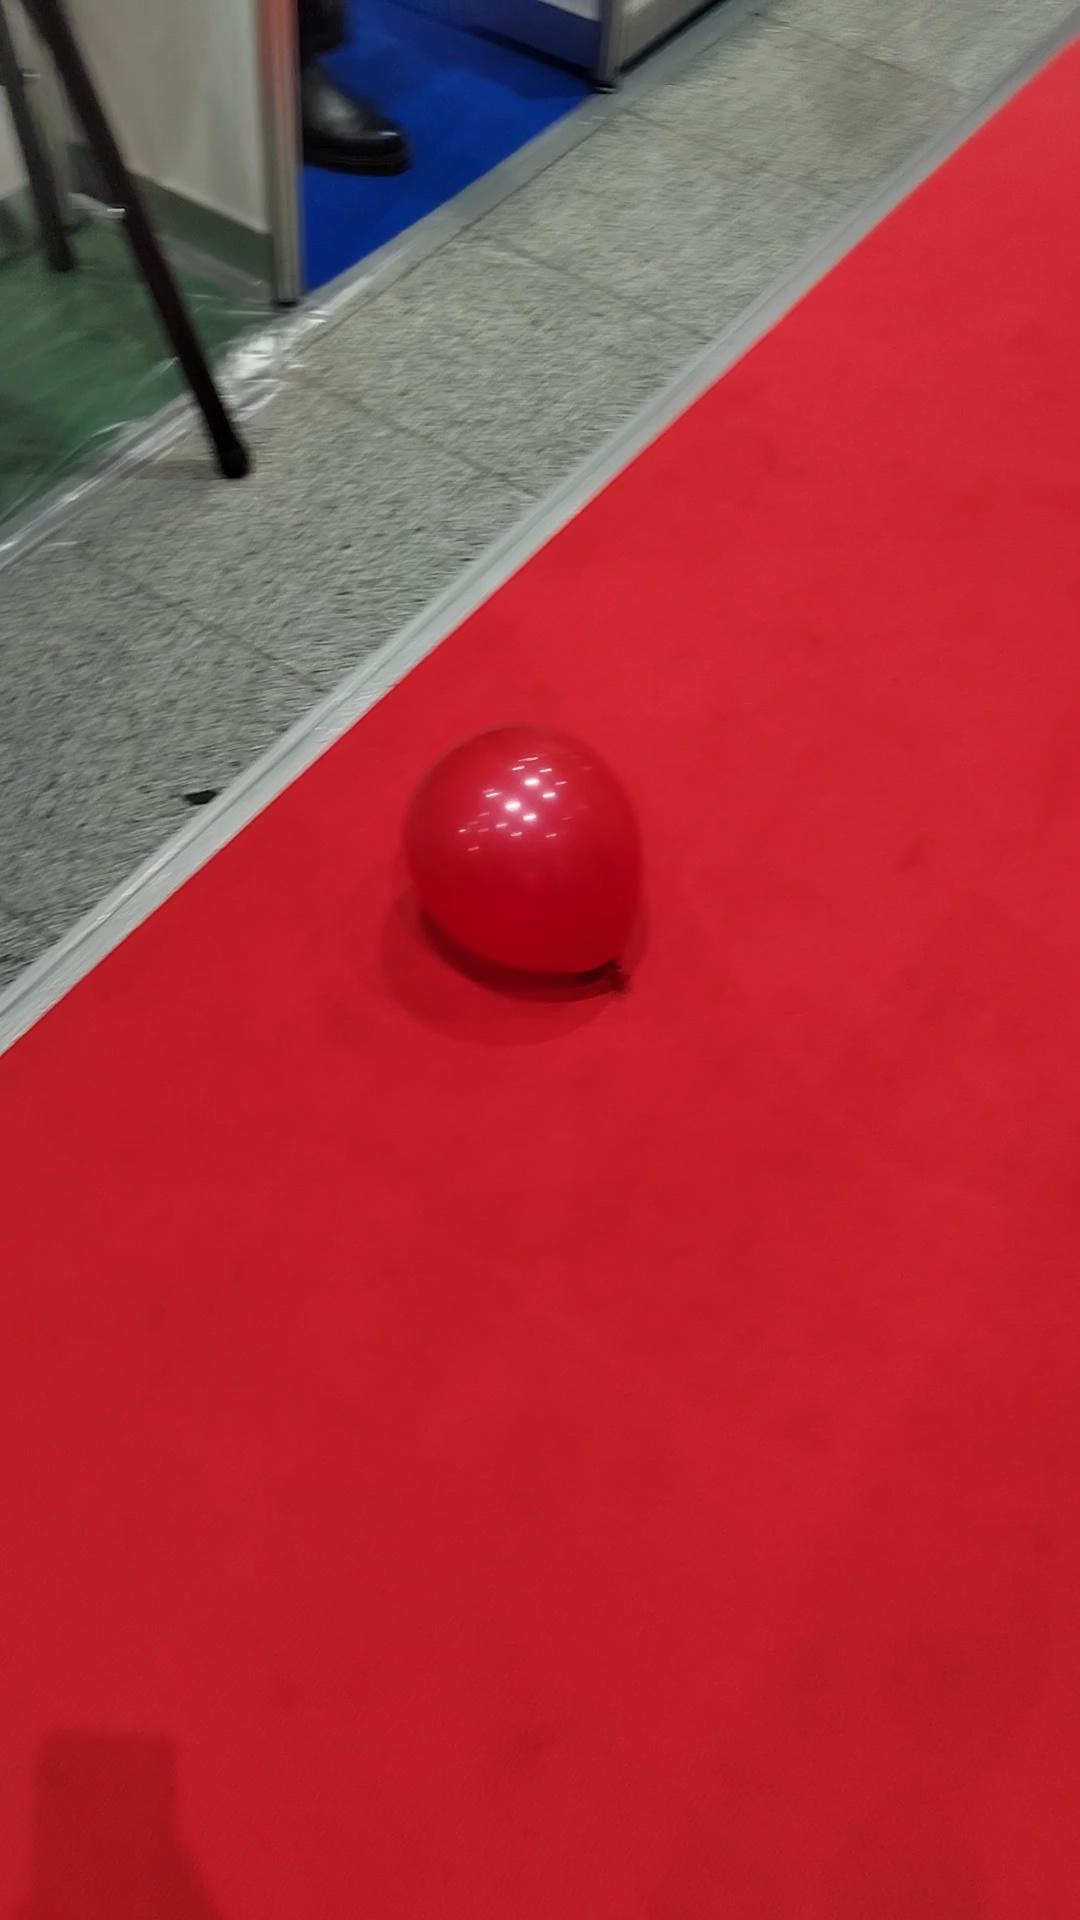red: (404, 723, 642, 975)
